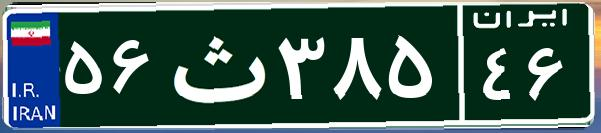3: (273, 28, 330, 110)
4: (475, 38, 525, 113)
5: (385, 28, 445, 110), (57, 26, 110, 107)
6: (110, 28, 158, 105), (525, 38, 570, 115)
8: (330, 28, 385, 110)
ث: (158, 15, 273, 115)
